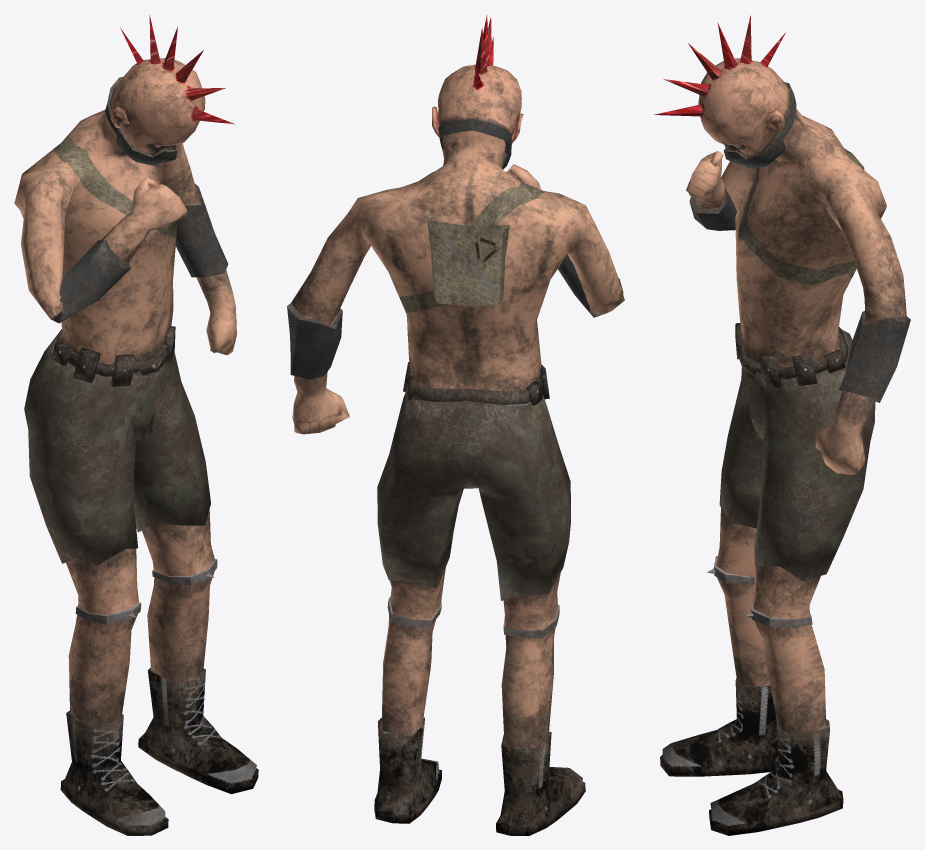
Rendered from Anim_perder_1_npc2.0044.obj.
The picture shows the model from 3 angles, left to right: view 1: azimuth 30°, elevation 25°; view 2: azimuth 150°, elevation 25°; view 3: azimuth 270°, elevation 25°; orthographic projection.
Visible parts, largest first — view 1: polySurface1; view 2: polySurface1; view 3: polySurface1.
Boxes of the visible parts, left/top/right/bottom form: polySurface1: left=14, top=15, right=258, bottom=835; polySurface1: left=287, top=15, right=624, bottom=835; polySurface1: left=654, top=15, right=910, bottom=835.
Size of the model in its own units: 3.44 by 9.77 by 2.95.
Materials: 2 (2 with a texture image).
